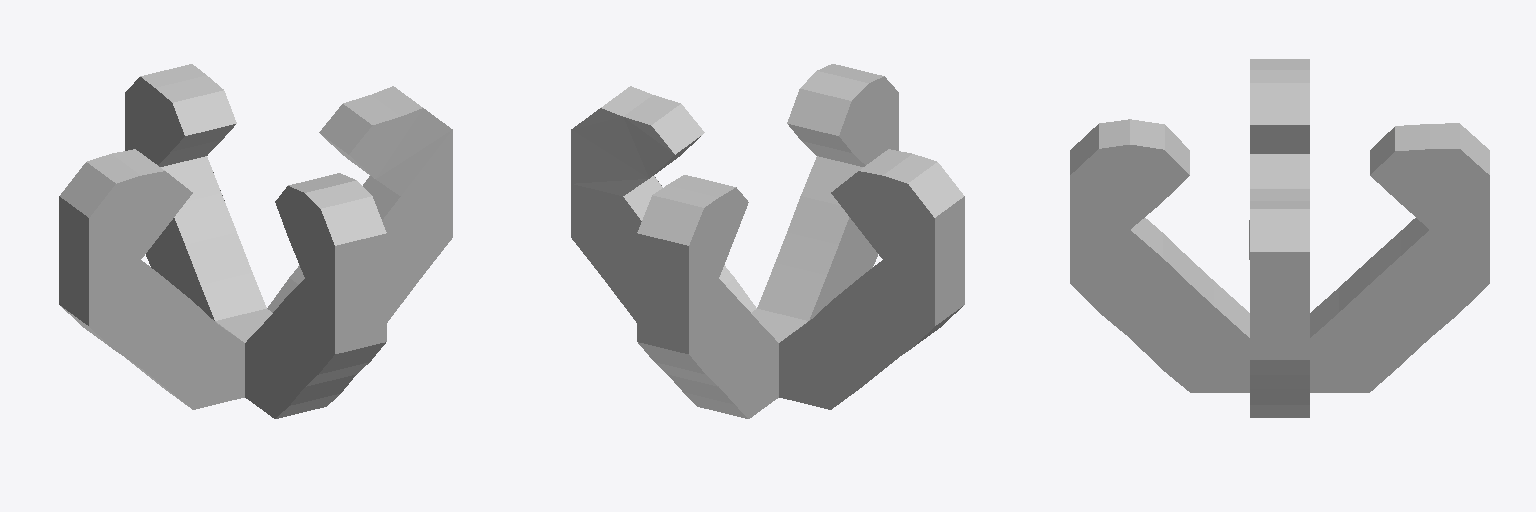
The model's file is ModelCrystalAltar.obj.
3 views of the same model, side by side, from view 1: azimuth 30°, elevation 25°; view 2: azimuth 150°, elevation 25°; view 3: azimuth 270°, elevation 25° (orthographic).
Visible parts, largest first — view 1: Cube; view 2: Cube; view 3: Cube.
Part boxes in pixels (left/top/right/bottom): Cube: left=59, top=64, right=452, bottom=418; Cube: left=571, top=64, right=964, bottom=418; Cube: left=1070, top=59, right=1489, bottom=417.
Size of the model in its own units: 14 by 9.14 by 14.